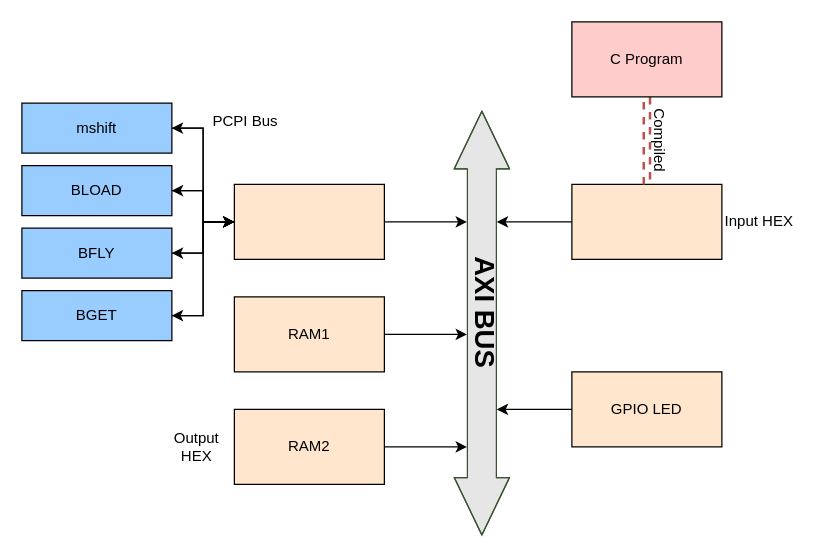
Some shapes in this 819 by 558 pixel diagram are drawn without their labels. Here are the shapes that lost their labels. From the top down, the centre of each, then its label:
At (x=308, y=221): "PicoRV32".
At (x=646, y=221): "ROM".
